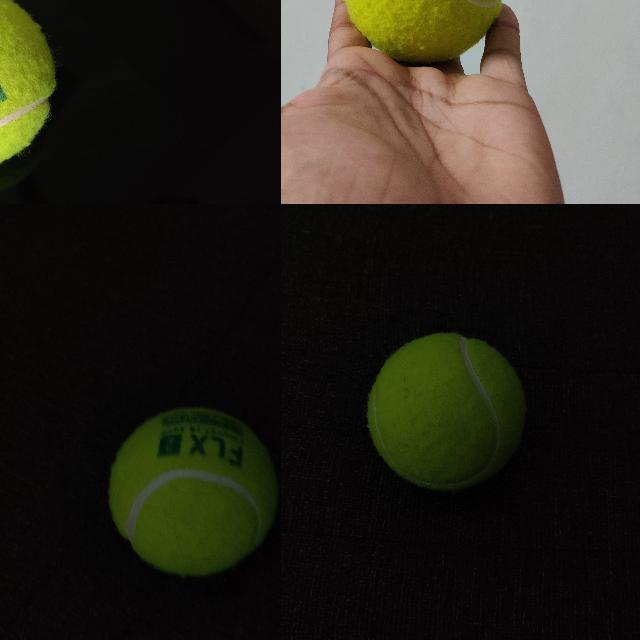tennis-ball: (108, 407, 279, 575), (366, 333, 527, 490), (343, 0, 504, 64), (0, 0, 57, 174)
